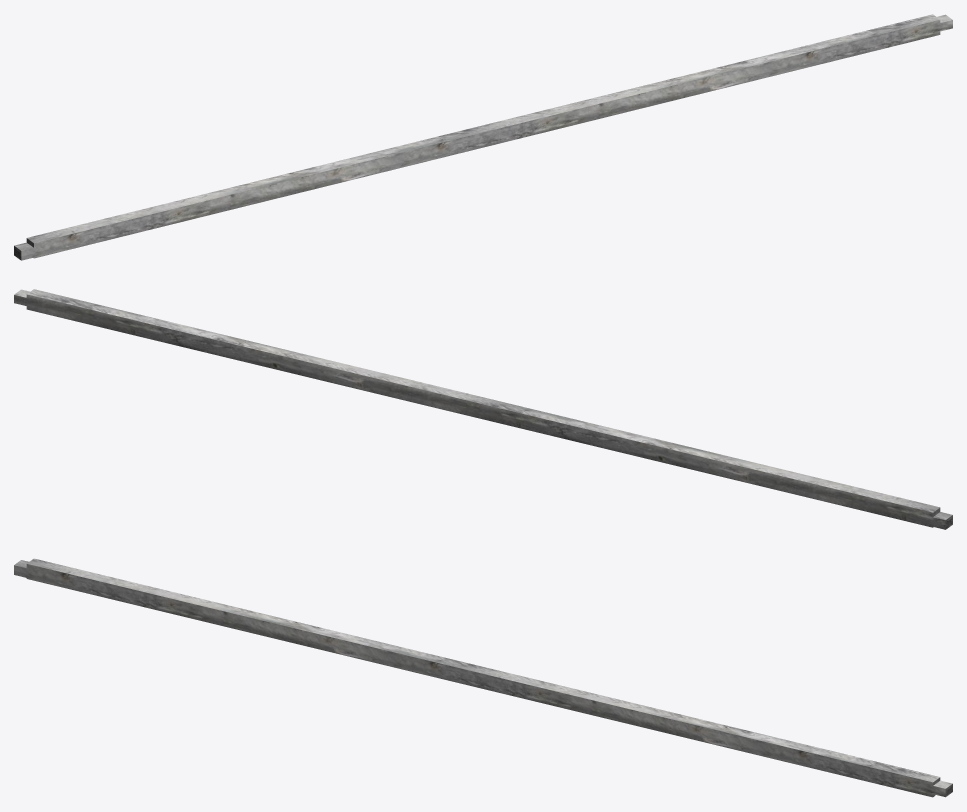
Rendered from sr1300walls.gltf.
The picture shows the model from 3 angles, top to bottom: view 1: azimuth 30°, elevation 25°; view 2: azimuth 150°, elevation 25°; view 3: azimuth 330°, elevation 25°; orthographic projection.
Visible parts, largest first — view 1: NaveN9_462; view 2: NaveN9_462; view 3: NaveN9_462.
Part boxes in pixels (x1,y1,x2,y2): NaveN9_462: [14, 14, 952, 260]; NaveN9_462: [14, 289, 952, 529]; NaveN9_462: [14, 558, 952, 797].
Bounding box in the file's own units: 11.01 × 0.1747 × 0.2076.
Materials: 1 (1 with a texture image).
